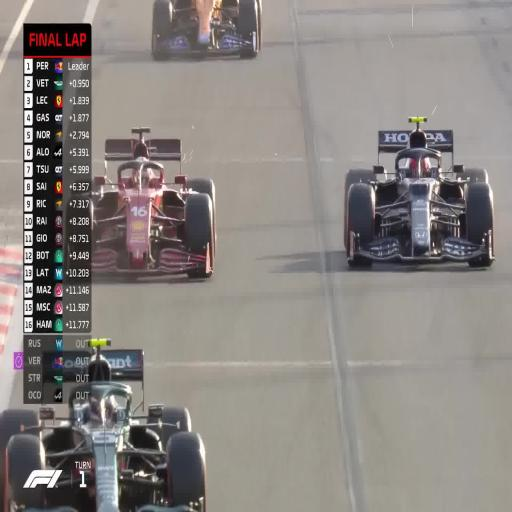f1_car: (0, 348, 206, 511), (345, 117, 494, 266), (89, 127, 216, 277), (151, 0, 261, 60), (67, 241, 74, 256), (64, 353, 76, 360), (70, 368, 76, 380), (63, 365, 67, 372), (67, 205, 72, 207), (64, 361, 67, 362), (69, 212, 70, 214), (70, 216, 70, 218)
